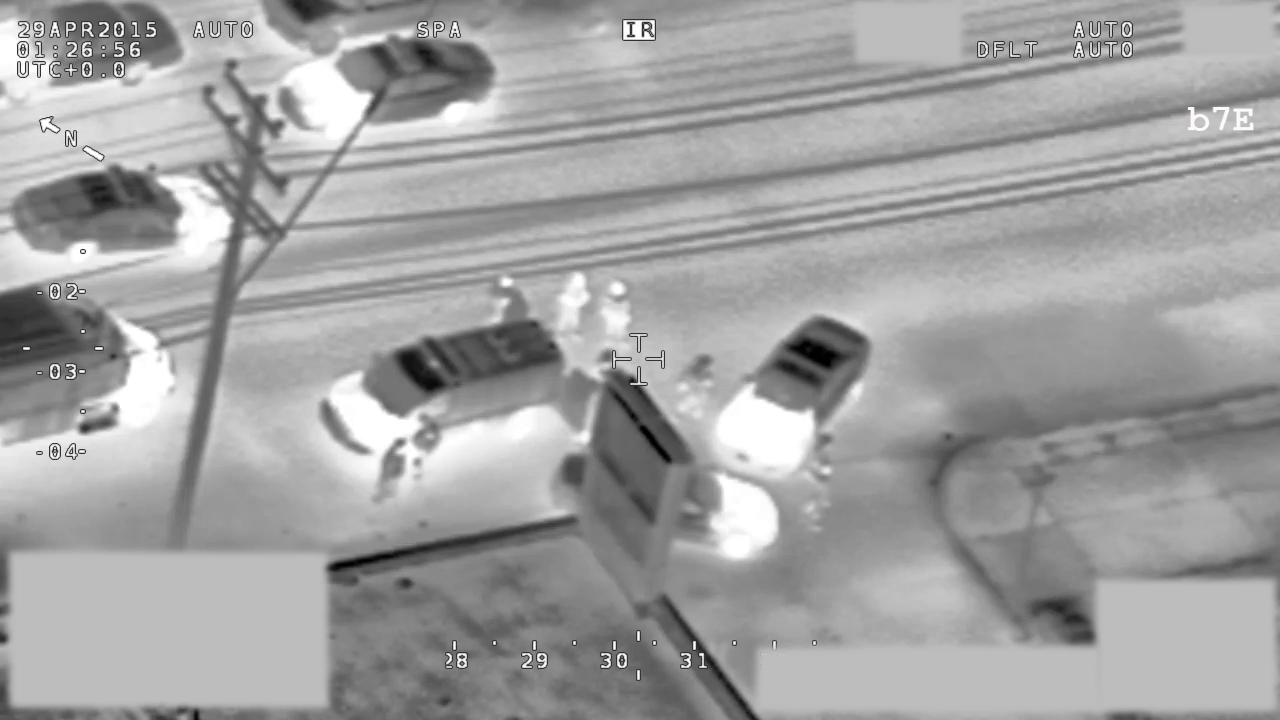vehicle: (321, 283, 599, 458), (1, 270, 185, 451), (543, 445, 782, 566), (704, 308, 871, 481), (1, 169, 248, 270), (271, 28, 502, 134), (1, 3, 196, 95)
